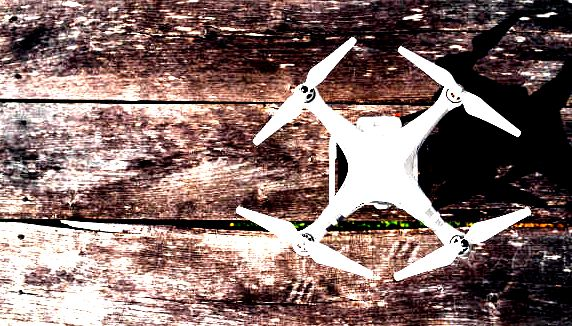Drone: (234, 30, 533, 282)
